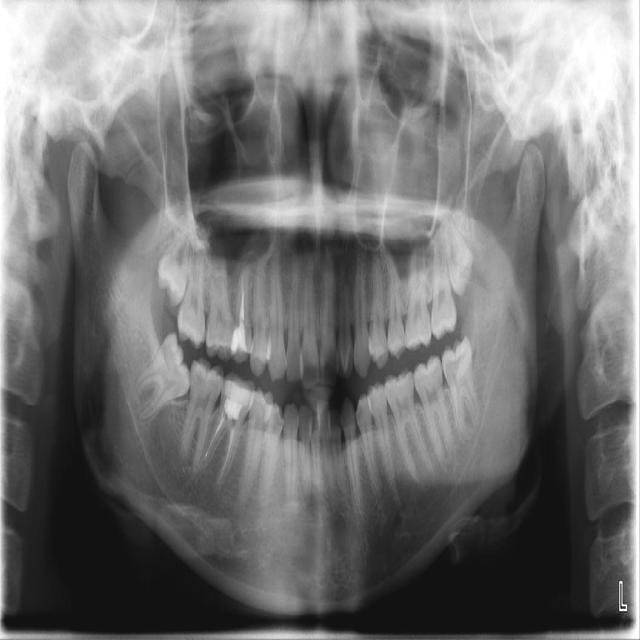Filling: (220, 370, 255, 422), (230, 317, 253, 365)
Root Canal Treatment: (221, 422, 240, 482), (206, 412, 227, 464), (241, 265, 246, 320)
impacted tooth: (126, 335, 191, 419), (441, 336, 482, 440), (159, 211, 195, 302), (445, 212, 472, 293)
